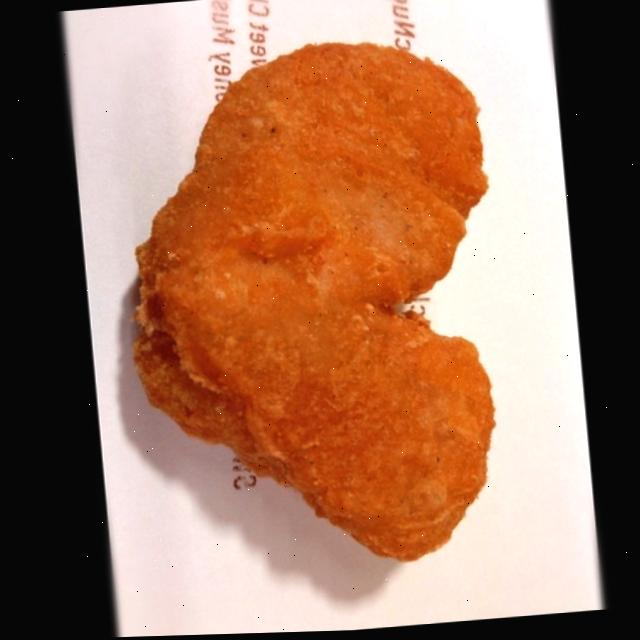鸡肉料理 含炸鸡: (81, 25, 558, 616)
